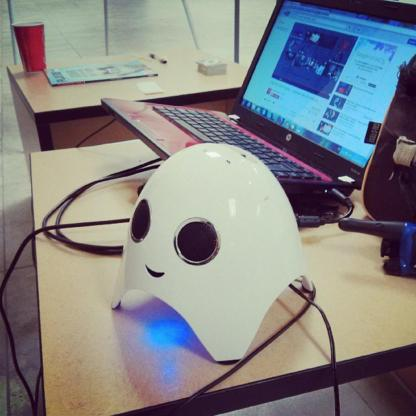board: (111, 13, 416, 218), (14, 18, 48, 74)
